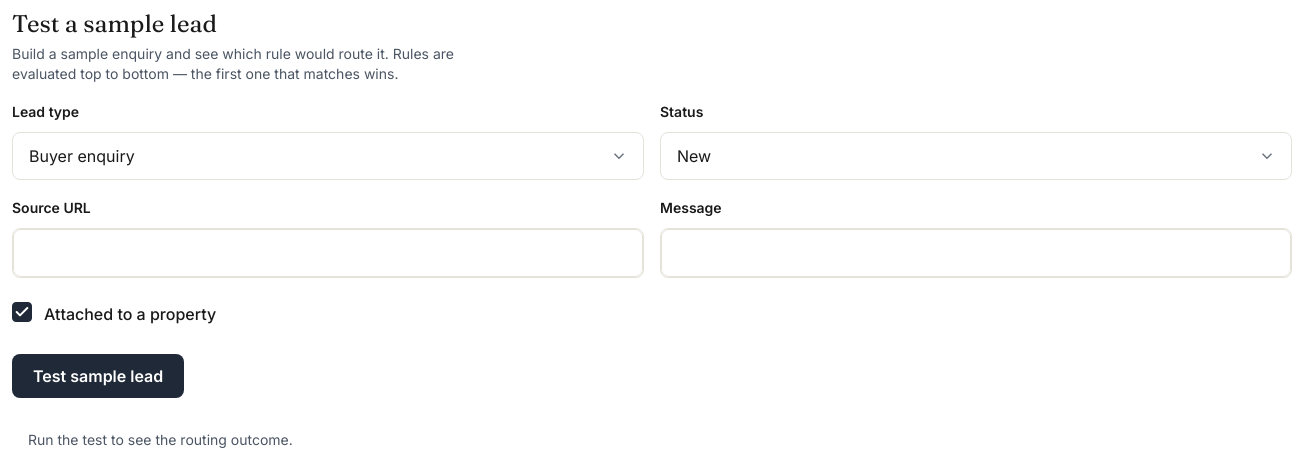
it: AssignmentRuleTester (FR-H-4 — test against a sample before saving) › reports the FIRST matching rule, not a later one (first-match-wins)
Click the button "Test sample lead".
click(98, 376)  # box [12,354,184,398]
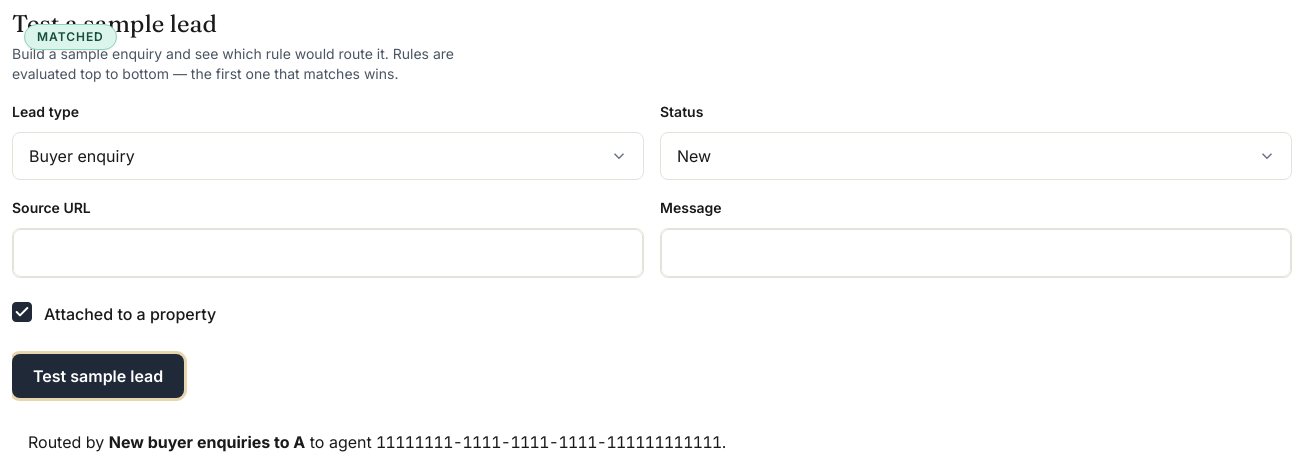
Expected: the message with test id "rule-tester-result" does not show "All buyer enquiries to B", [28,432,726,453]
Result: the message with test id "rule-tester-result" shows "New buyer enquiries to A" at [109,432,305,452]
